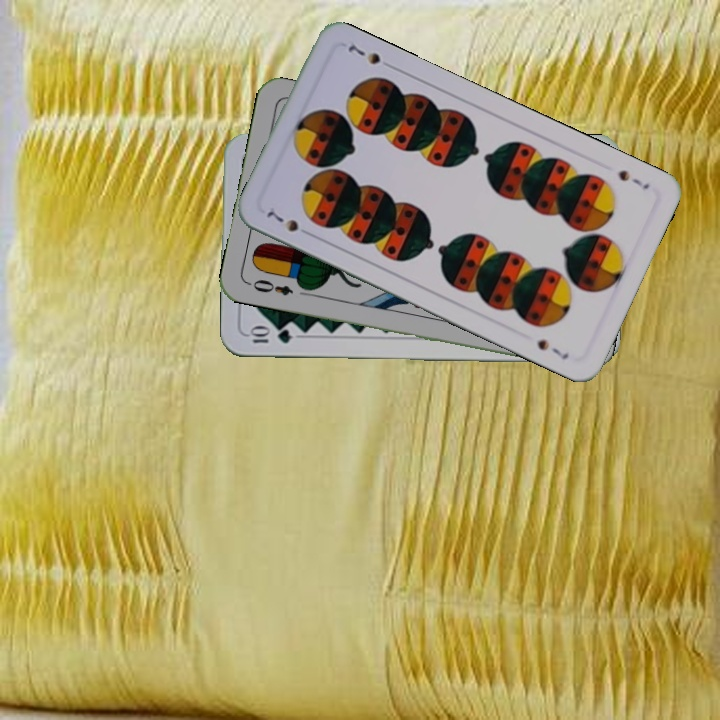EO: (244, 275, 296, 299)
G10: (246, 326, 294, 346)
S7: (262, 206, 315, 239), (614, 166, 652, 192)
